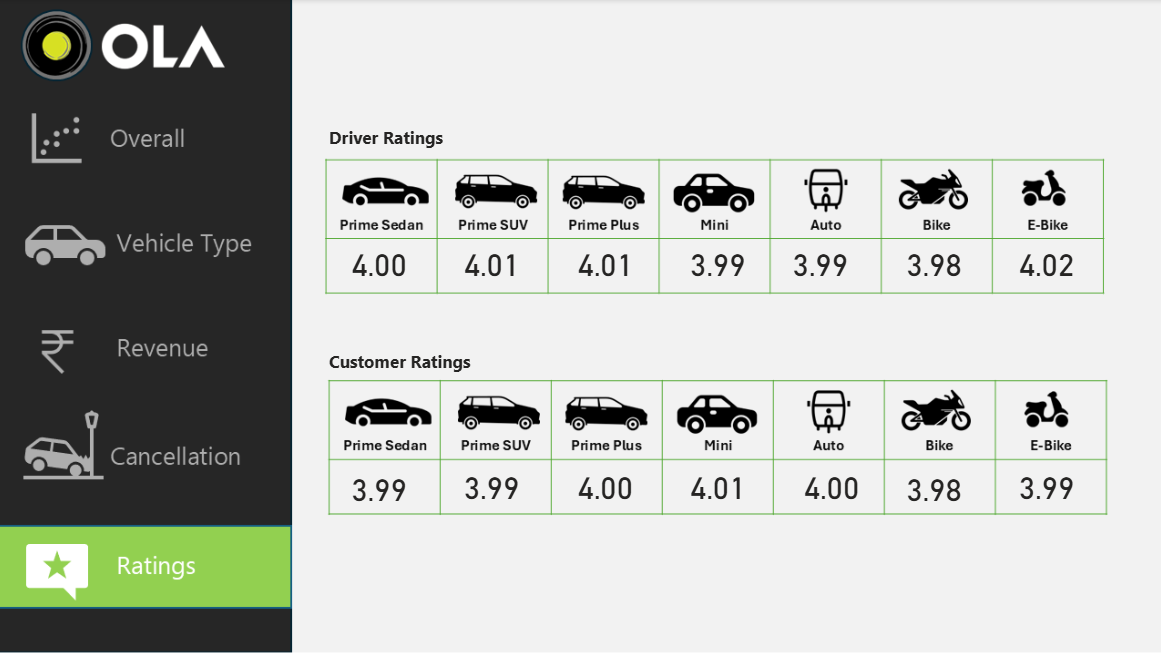

What the dashboard file says about the page in this screenshot:
{"tool":"powerbi","page":{"name":"Ratings","canvas":[1280,720],"ordinal":4},"visuals":[{"type":"actionButton","box":[0,111,324.5,91.7],"z":0},{"type":"actionButton","box":[1.2,219.6,324.5,91.7],"z":1000},{"type":"actionButton","box":[1.2,334.2,324.5,91.7],"z":2000},{"type":"actionButton","box":[2.4,446.4,324.5,91.7],"z":3000},{"type":"card","fields":{"Values":["Avg(bookings.Driver_Ratings)"]},"box":[359.3,260.2,124.2,62.1],"z":4000},{"type":"card","fields":{"Values":["Avg(bookings.Driver_Ratings)"]},"box":[607.6,260.2,124.2,62.1],"z":5000},{"type":"card","fields":{"Values":["Avg(bookings.Driver_Ratings)"]},"box":[731.8,260.2,124.2,62.1],"z":6000},{"type":"card","fields":{"Values":["Avg(bookings.Driver_Ratings)"]},"box":[844.2,260.2,124.2,62.1],"z":7000},{"type":"card","fields":{"Values":["Avg(bookings.Driver_Ratings)"]},"box":[968.4,260.2,124.2,62.1],"z":8000},{"type":"card","fields":{"Values":["Avg(bookings.Driver_Ratings)"]},"box":[1092.5,260.2,124.2,62.1],"z":9000},{"type":"card","fields":{"Values":["Avg(bookings.Driver_Ratings)"]},"box":[483.4,260.2,124.2,62.1],"z":10000},{"type":"card","fields":{"Values":["Avg(bookings.Customer_Rating)"]},"box":[359.3,507.1,124.2,62.1],"z":11000},{"type":"card","fields":{"Values":["Avg(bookings.Customer_Rating)"]},"box":[483.4,505.6,124.2,62.1],"z":12000},{"type":"card","fields":{"Values":["Avg(bookings.Customer_Rating)"]},"box":[607.6,505.6,124.2,62.1],"z":13000},{"type":"card","fields":{"Values":["Avg(bookings.Customer_Rating)"]},"box":[731.8,505.6,124.2,62.1],"z":14000},{"type":"card","fields":{"Values":["Avg(bookings.Customer_Rating)"]},"box":[856,505.6,124.2,62.1],"z":15000},{"type":"card","fields":{"Values":["Avg(bookings.Customer_Rating)"]},"box":[968.4,507.1,124.2,62.1],"z":16000},{"type":"card","fields":{"Values":["Avg(bookings.Customer_Rating)"]},"box":[1092.5,505.6,124.2,62.1],"z":17000},{"type":"textbox","box":[359.5,134.5,587.3,41.2],"z":17001},{"type":"textbox","box":[359.5,380.1,764.3,46.7],"z":17002}]}

Visuals, with their boxes on the page's 1280x720 design canvas (x1, y1, x2, y2). These are canvas units, not pixel positions in the 1161x654 screenshot, which may show the page scaled, cropped or inside an application window:
actionButton: select_region(0, 111, 324, 203)
actionButton: select_region(1, 220, 326, 311)
actionButton: select_region(1, 334, 326, 426)
actionButton: select_region(2, 446, 327, 538)
card - Avg(bookings.Driver_Ratings): select_region(359, 260, 484, 322)
card - Avg(bookings.Driver_Ratings): select_region(608, 260, 732, 322)
card - Avg(bookings.Driver_Ratings): select_region(732, 260, 856, 322)
card - Avg(bookings.Driver_Ratings): select_region(844, 260, 968, 322)
card - Avg(bookings.Driver_Ratings): select_region(968, 260, 1093, 322)
card - Avg(bookings.Driver_Ratings): select_region(1092, 260, 1217, 322)
card - Avg(bookings.Driver_Ratings): select_region(483, 260, 608, 322)
card - Avg(bookings.Customer_Rating): select_region(359, 507, 484, 569)
card - Avg(bookings.Customer_Rating): select_region(483, 506, 608, 568)
card - Avg(bookings.Customer_Rating): select_region(608, 506, 732, 568)
card - Avg(bookings.Customer_Rating): select_region(732, 506, 856, 568)
card - Avg(bookings.Customer_Rating): select_region(856, 506, 980, 568)
card - Avg(bookings.Customer_Rating): select_region(968, 507, 1093, 569)
card - Avg(bookings.Customer_Rating): select_region(1092, 506, 1217, 568)
textbox: select_region(360, 134, 947, 176)
textbox: select_region(360, 380, 1124, 427)
